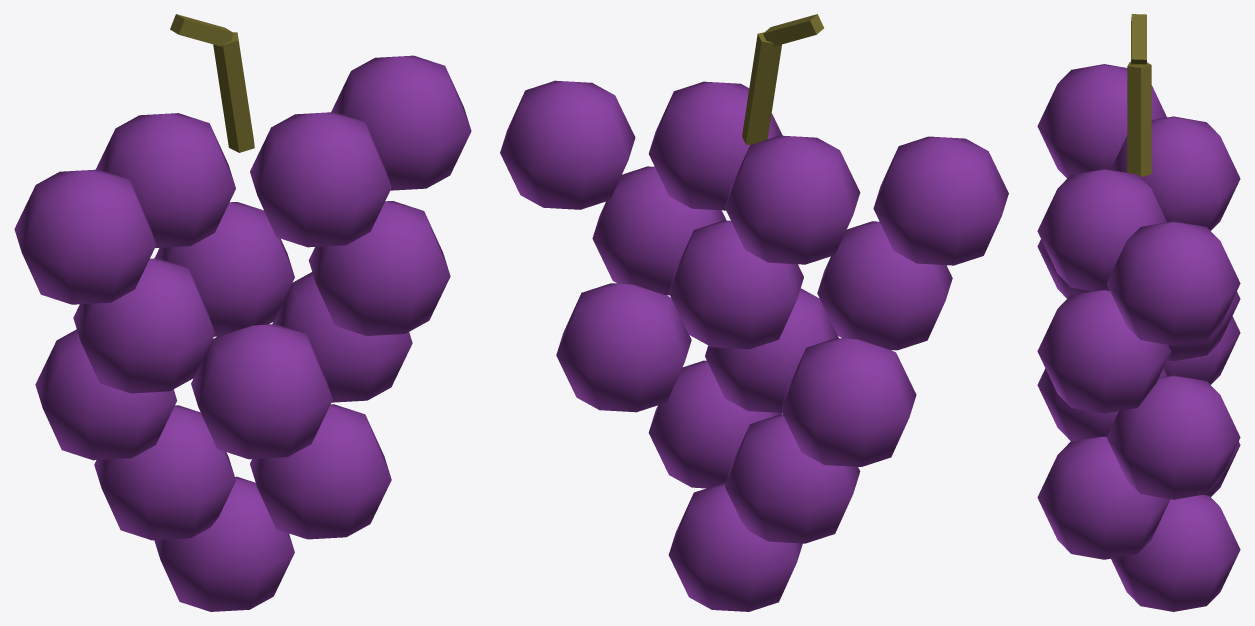
The model's file is Grapes.fbx.
The picture shows the model from 3 angles, left to right: view 1: azimuth 30°, elevation 25°; view 2: azimuth 150°, elevation 25°; view 3: azimuth 270°, elevation 25°; orthographic projection. The views are drawn at different scales.
Parts seen in each view (by area): view 1: Grapes; view 2: Grapes; view 3: Grapes.
Part boxes in pixels (x1,y1,x2,y2): Grapes: (14,14,471,611); Grapes: (500,14,1008,611); Grapes: (1037,14,1240,611).
Bounding box in the file's own units: 0.117 × 0.1452 × 0.047.
